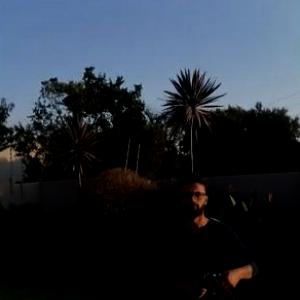follow: (158, 163, 270, 299)
